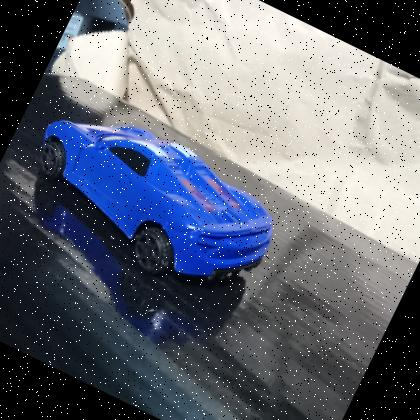Car: (0, 80, 298, 322)
